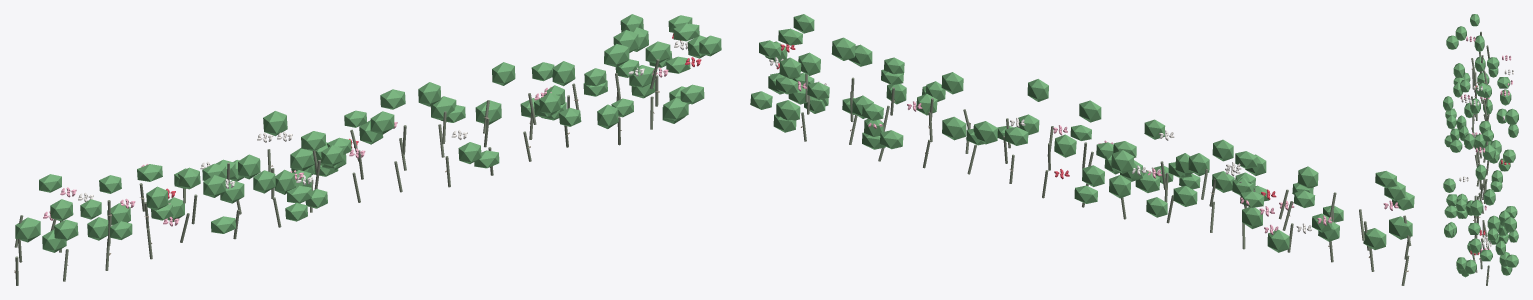
The picture shows the model from 3 angles, left to right: view 1: azimuth 30°, elevation 25°; view 2: azimuth 150°, elevation 25°; view 3: azimuth 270°, elevation 25°; orthographic projection. The views are drawn at different scales.
Parts seen in each view (by area): view 1: Foliage.011, Foliage.009, Foliage.035, Foliage.056, Foliage.042, Foliage.017, Foliage.010, Foliage.015, Foliage.027, Foliage.068, Foliage.046, Foliage.058; view 2: Foliage.042, Foliage.078, Foliage.073, Foliage.009, Foliage.011, Foliage.022, Foliage.066, Foliage.050, Foliage.025; view 3: Foliage.009, Foliage.078, Foliage.050, Foliage.001, Foliage.042, Foliage.049, Foliage.016, Foliage.008, Foliage.055, Foliage.021, Foliage.076, Foliage.058 (+57 smaller).
Part boxes in pixels (<box>): Foliage.011: <box>15,217,40,242</box>; Foliage.009: <box>263,111,287,136</box>; Foliage.035: <box>604,44,629,67</box>; Foliage.056: <box>663,98,688,121</box>; Foliage.042: <box>475,100,501,124</box>; Foliage.017: <box>370,111,394,134</box>; Foliage.010: <box>552,61,575,86</box>; Foliage.015: <box>645,41,670,63</box>; Foliage.027: <box>238,154,260,179</box>; Foliage.068: <box>290,148,314,170</box>; Foliage.046: <box>418,82,440,106</box>; Foliage.058: <box>492,62,515,85</box>; Foliage.042: <box>942,116,966,140</box>; Foliage.078: <box>831,37,855,60</box>; Foliage.073: <box>973,121,997,144</box>; Foliage.009: <box>1111,150,1134,173</box>; Foliage.011: <box>1389,216,1412,239</box>; Foliage.022: <box>776,100,800,120</box>; Foliage.066: <box>1173,185,1197,206</box>; Foliage.050: <box>1054,134,1076,157</box>; Foliage.025: <box>1109,175,1130,198</box>; Foliage.009: <box>1505,108,1518,125</box>; Foliage.078: <box>1470,199,1483,216</box>; Foliage.050: <box>1482,144,1495,160</box>; Foliage.001: <box>1504,217,1516,232</box>; Foliage.042: <box>1484,189,1495,205</box>; Foliage.049: <box>1487,215,1500,230</box>; Foliage.016: <box>1469,238,1481,253</box>; Foliage.008: <box>1446,35,1458,49</box>; Foliage.055: <box>1505,254,1518,267</box>; Foliage.021: <box>1443,178,1455,192</box>; Foliage.076: <box>1503,149,1515,162</box>; Foliage.058: <box>1475,164,1486,180</box>.
Size of the model in its own units: 10.18 by 1.61 by 1.45.
